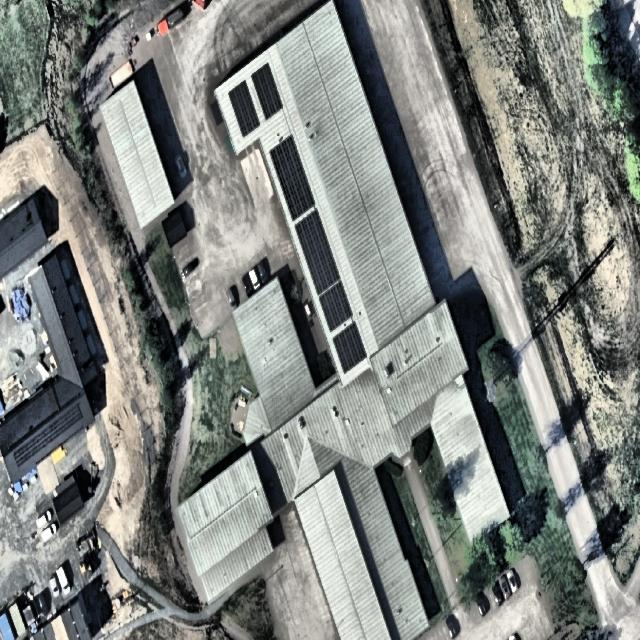roof_pv: (268, 133, 317, 221), (293, 210, 343, 295), (328, 321, 371, 374), (248, 66, 288, 116), (317, 281, 355, 330), (229, 79, 261, 136)
